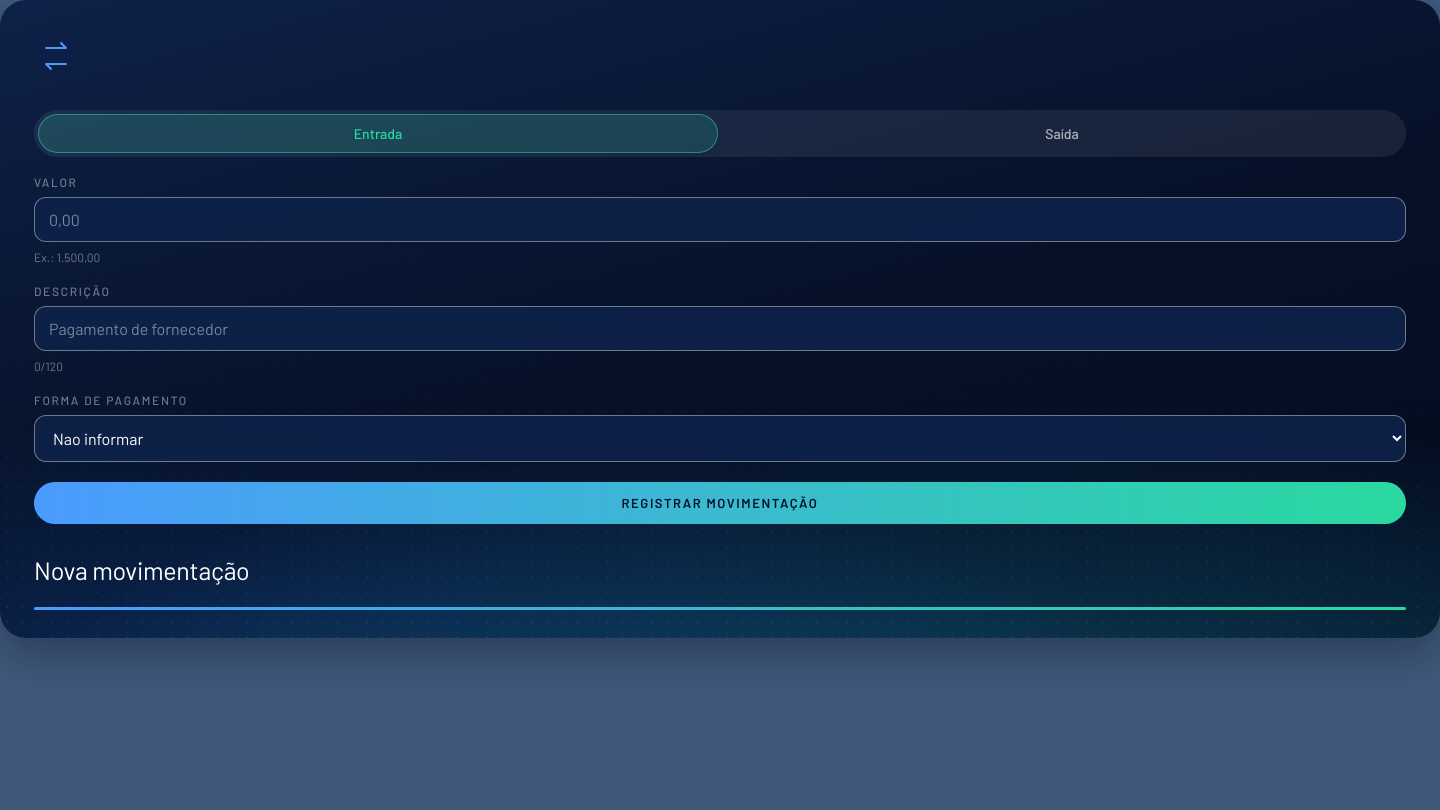
Test: MovimentacaoForm › envia uma entrada com valor no formato brasileiro
Type "1.500,50" into the field with placeholder "0,00" at {"x": 720, "y": 220}, box [34, 197, 1406, 242]
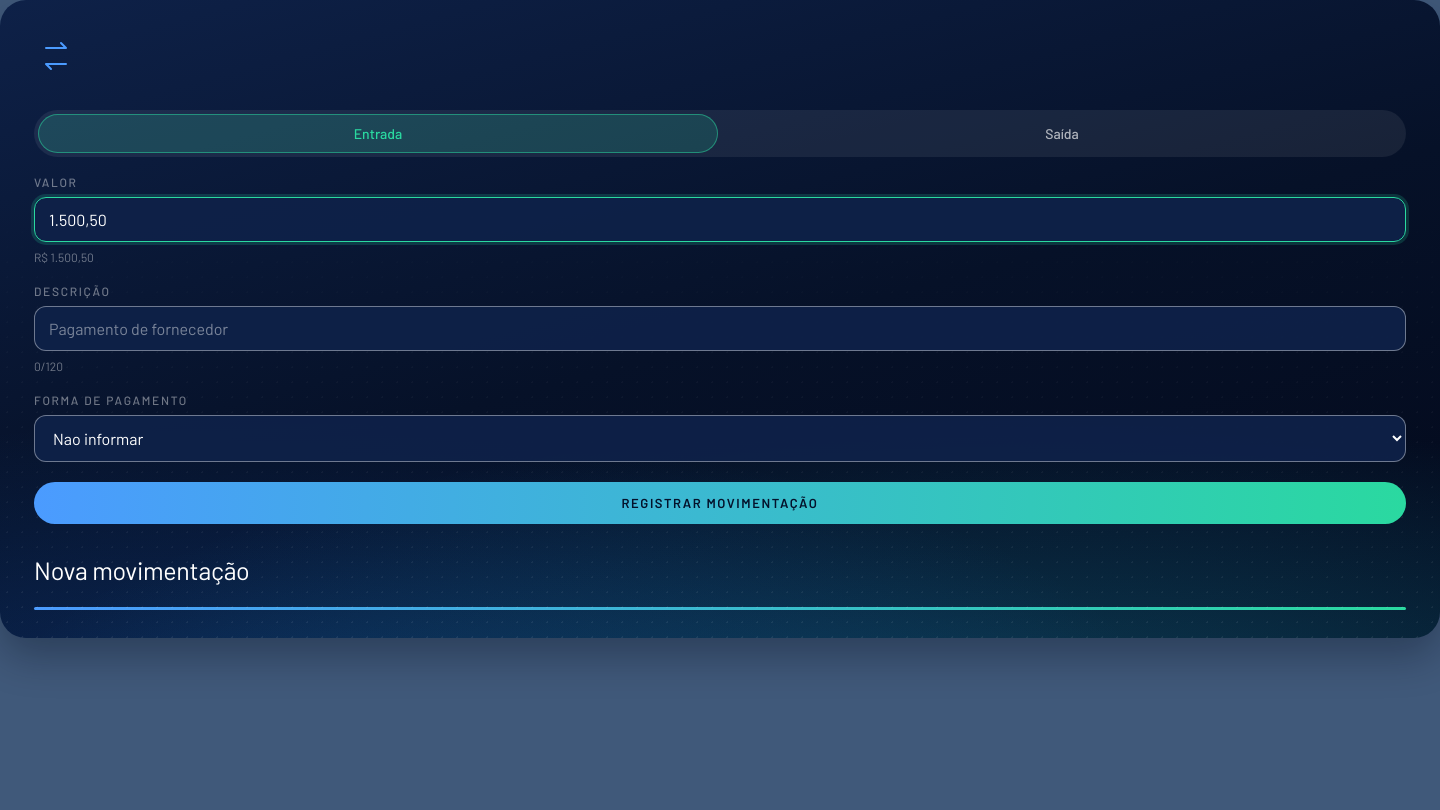
Type "Venda" into the field with placeholder "Pagamento de fornecedor" at {"x": 720, "y": 328}, box [34, 306, 1406, 351]
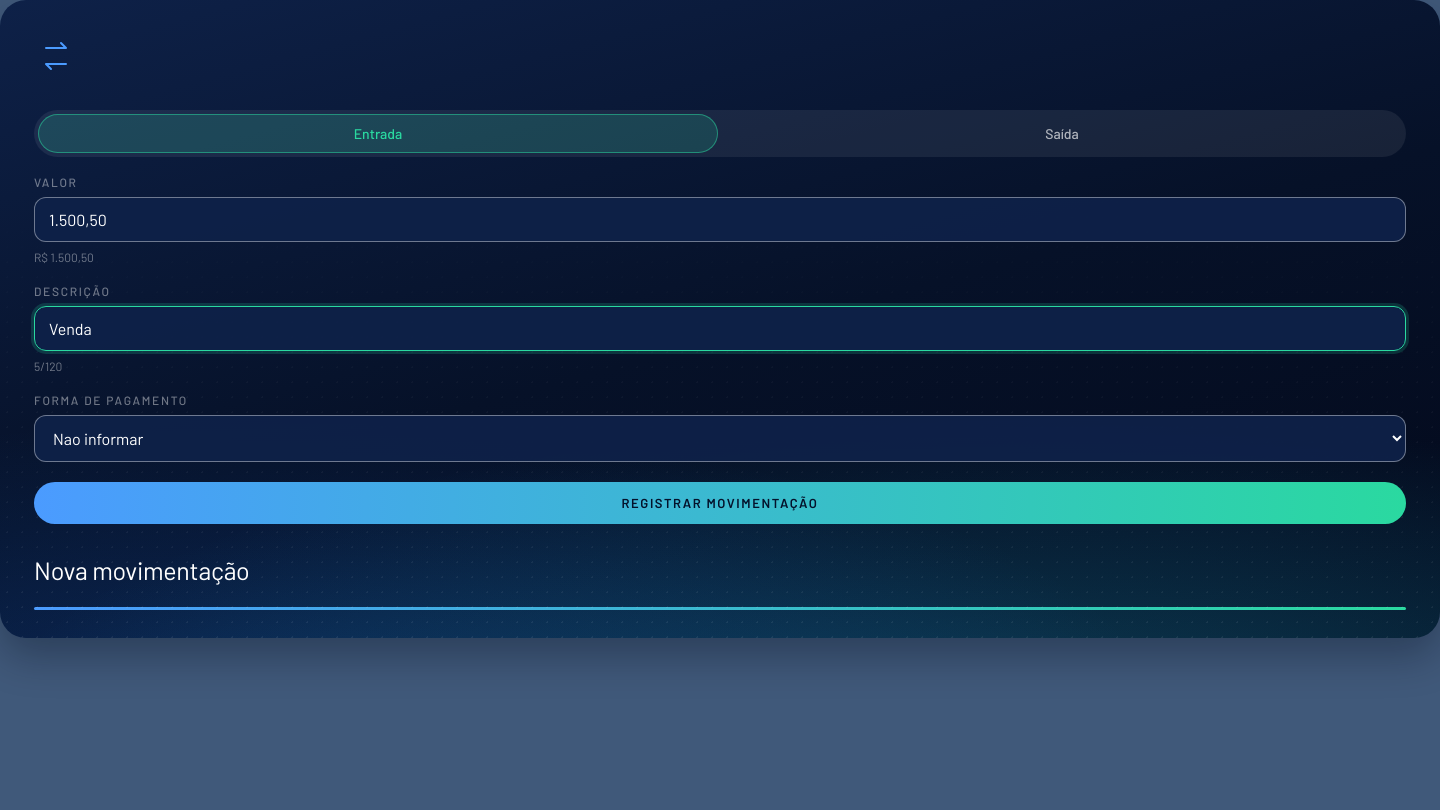
Click the button "Registrar movimentação" at {"x": 720, "y": 503}, box [34, 482, 1406, 524]
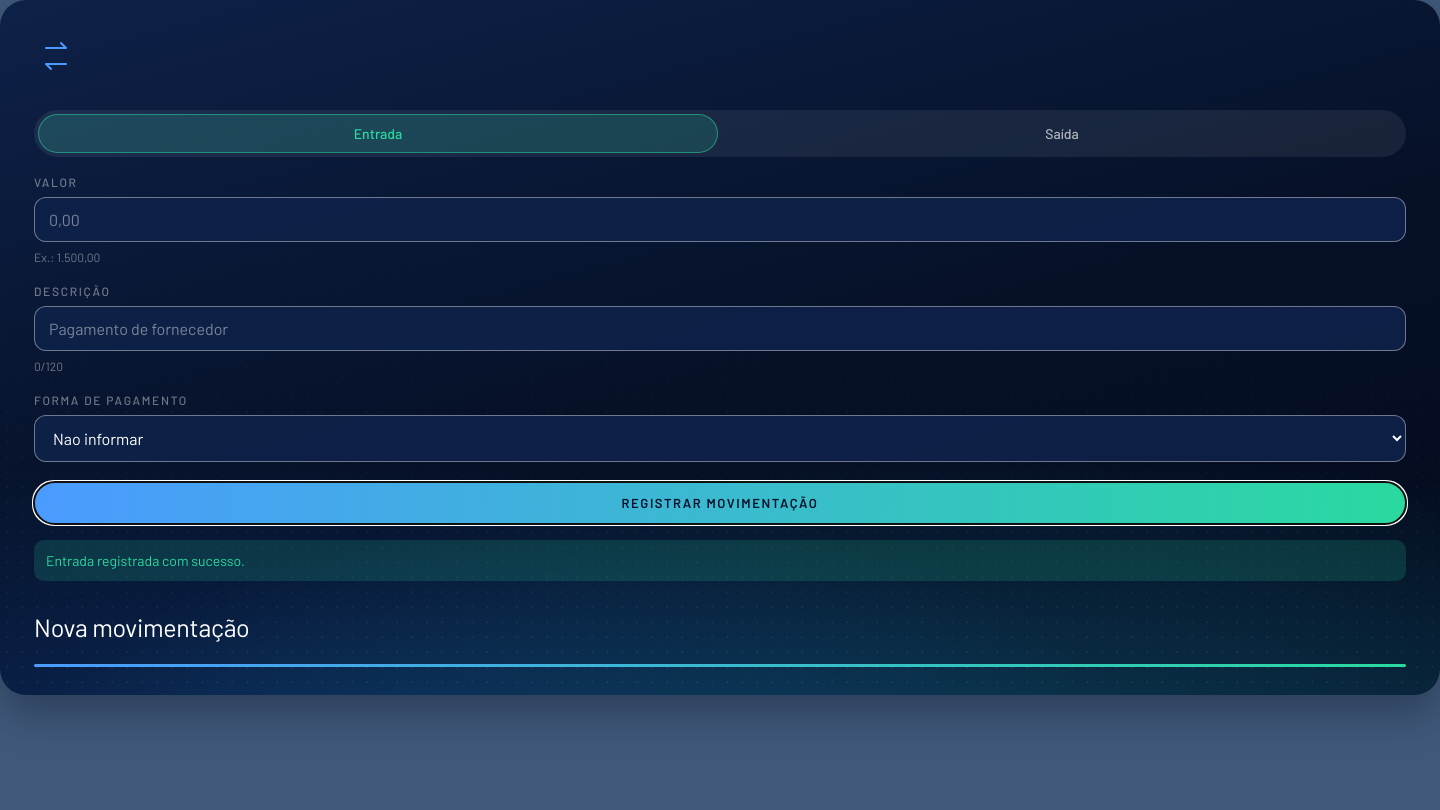
Result: the message shows "Entrada registrada" at [46, 552, 245, 569]
